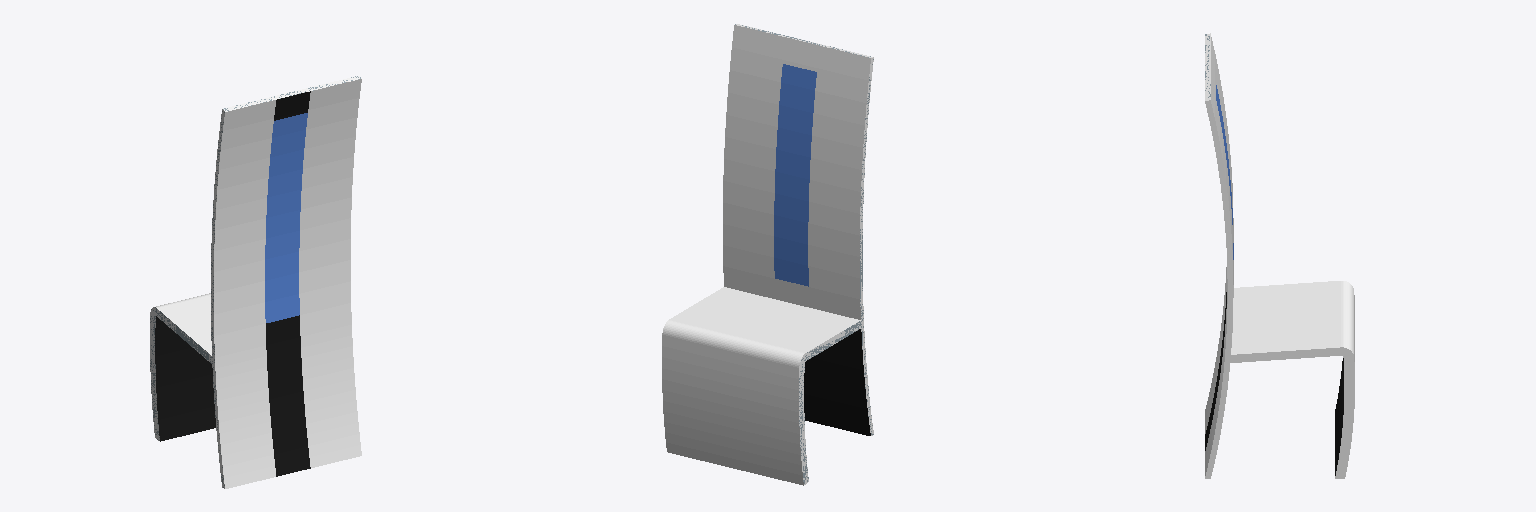
3 renders of one model, left to right at view 1: azimuth 30°, elevation 25°; view 2: azimuth 150°, elevation 25°; view 3: azimuth 270°, elevation 25°, orthographic.
Visible parts, largest first — view 1: dining_chair_ID4, dining_chair_ID44, dining_chair_ID12, dining_chair_ID38, dining_chair_ID50, dining_chair_ID56; view 2: dining_chair_ID4, dining_chair_ID20, dining_chair_ID12, dining_chair_ID50; view 3: dining_chair_ID4, dining_chair_ID12, dining_chair_ID44.
Part boxes in pixels (bbox=[...]): dining_chair_ID4: bbox=[156, 79, 361, 467]; dining_chair_ID44: bbox=[214, 100, 275, 488]; dining_chair_ID12: bbox=[155, 315, 310, 476]; dining_chair_ID38: bbox=[265, 113, 307, 322]; dining_chair_ID50: bbox=[150, 76, 361, 488]; dining_chair_ID56: bbox=[274, 91, 310, 120]; dining_chair_ID4: bbox=[662, 25, 870, 485]; dining_chair_ID20: bbox=[774, 64, 816, 286]; dining_chair_ID12: bbox=[804, 329, 870, 435]; dining_chair_ID50: bbox=[735, 24, 873, 484]; dining_chair_ID4: bbox=[1205, 37, 1354, 478]; dining_chair_ID12: bbox=[1205, 292, 1343, 475]; dining_chair_ID44: bbox=[1205, 267, 1226, 433].
Bounding box in the file's own units: 0.3358 × 0.8863 × 0.3189.